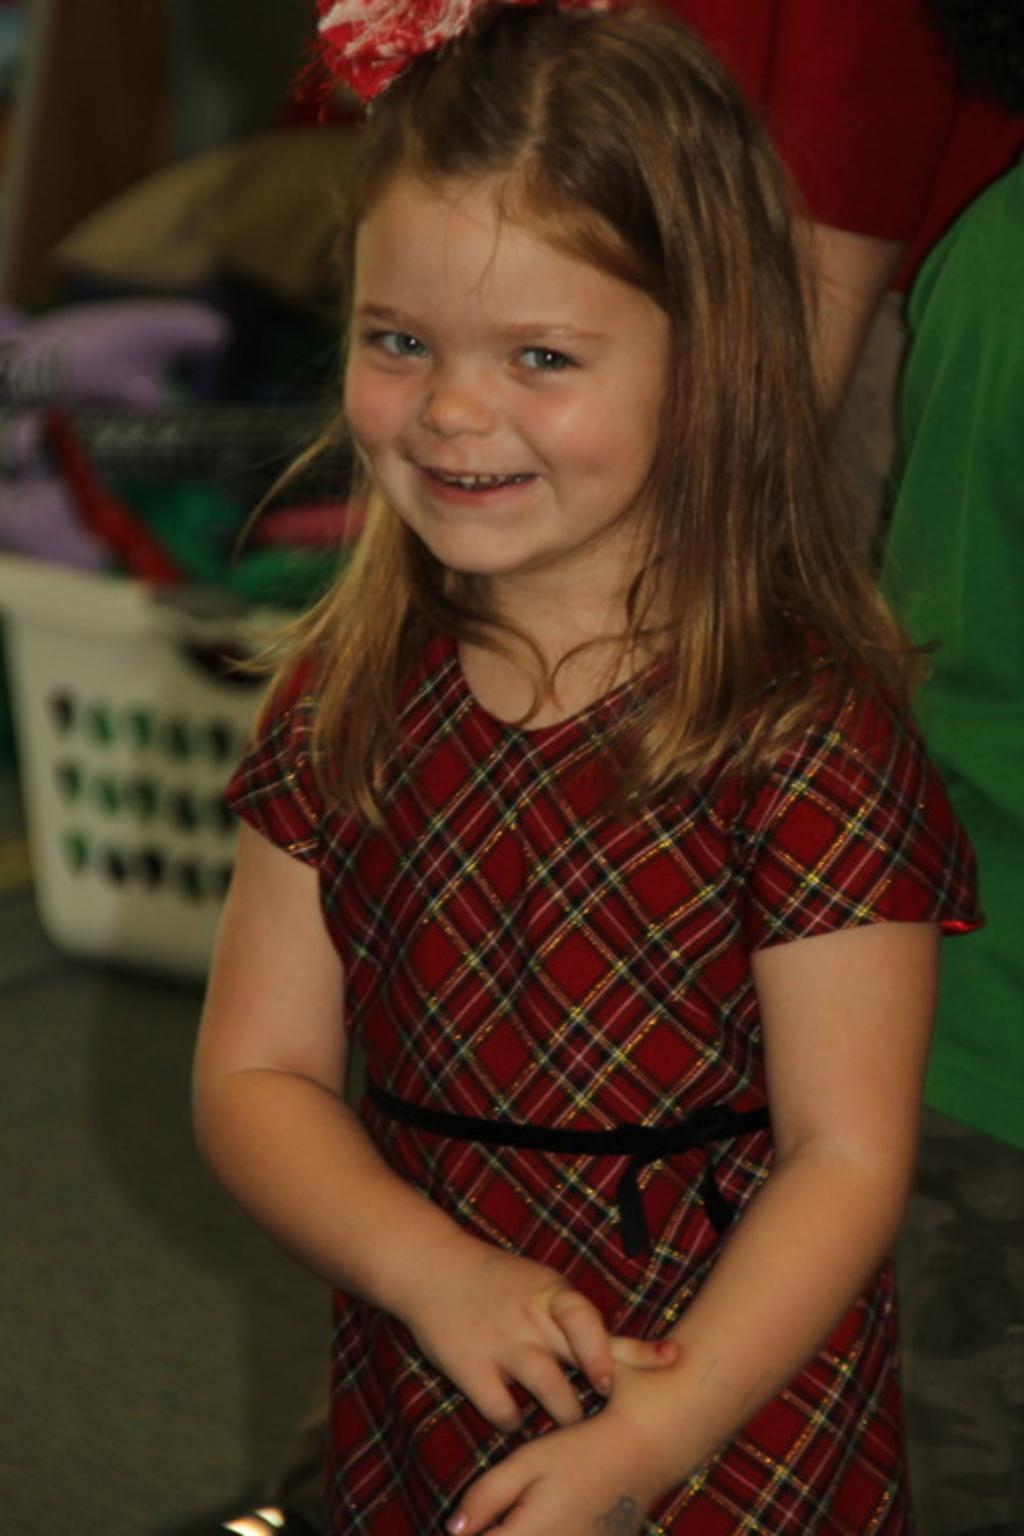face: (346, 166, 676, 571)
